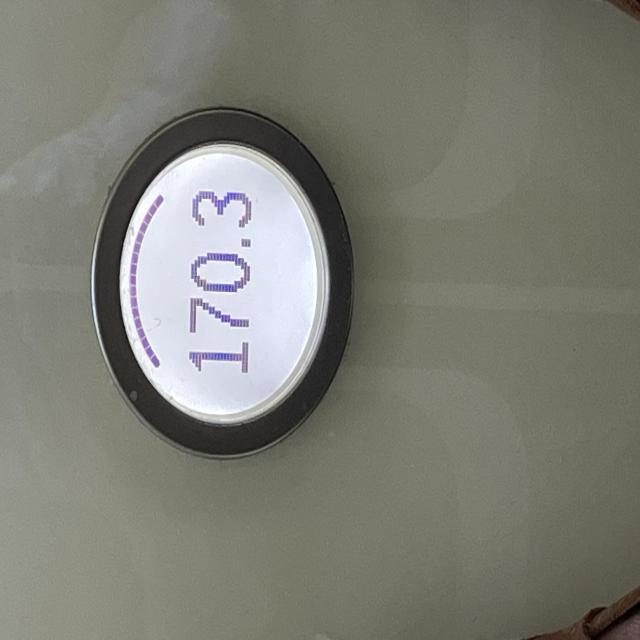ws: (89, 109, 353, 462)
